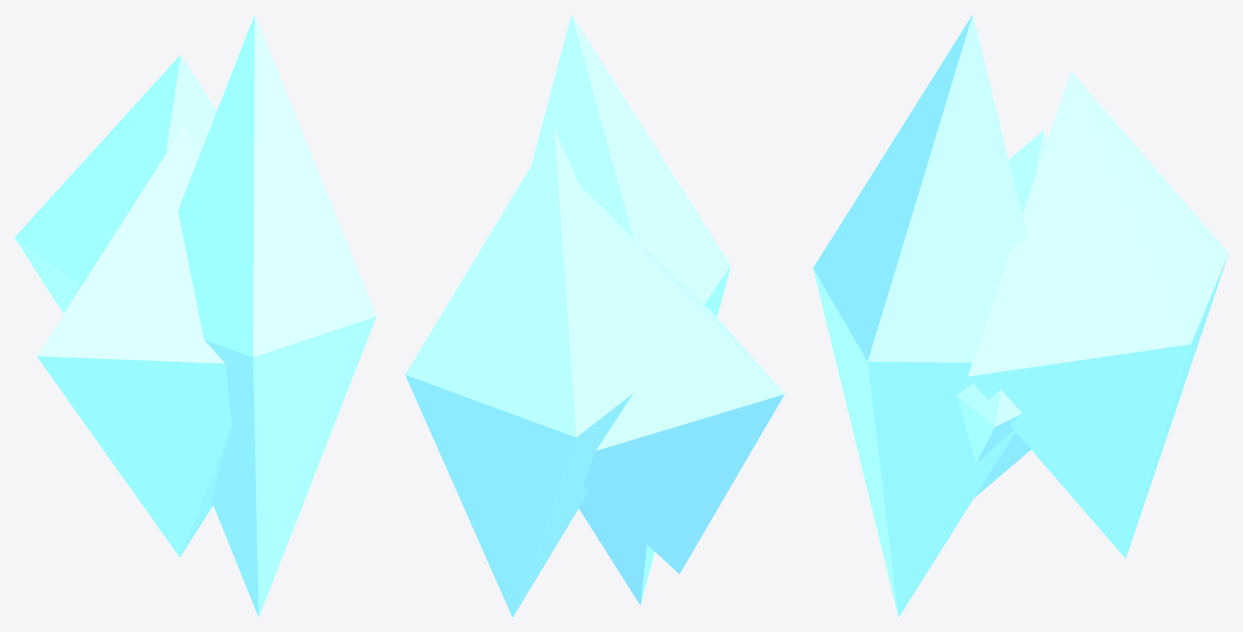
The model's file is dew.glb.
The picture shows the model from 3 angles, left to right: view 1: azimuth 30°, elevation 25°; view 2: azimuth 150°, elevation 25°; view 3: azimuth 270°, elevation 25°; orthographic projection. The views are drawn at different scales.
Size of the model in its own units: 0.7856 by 1.47 by 0.8925.
